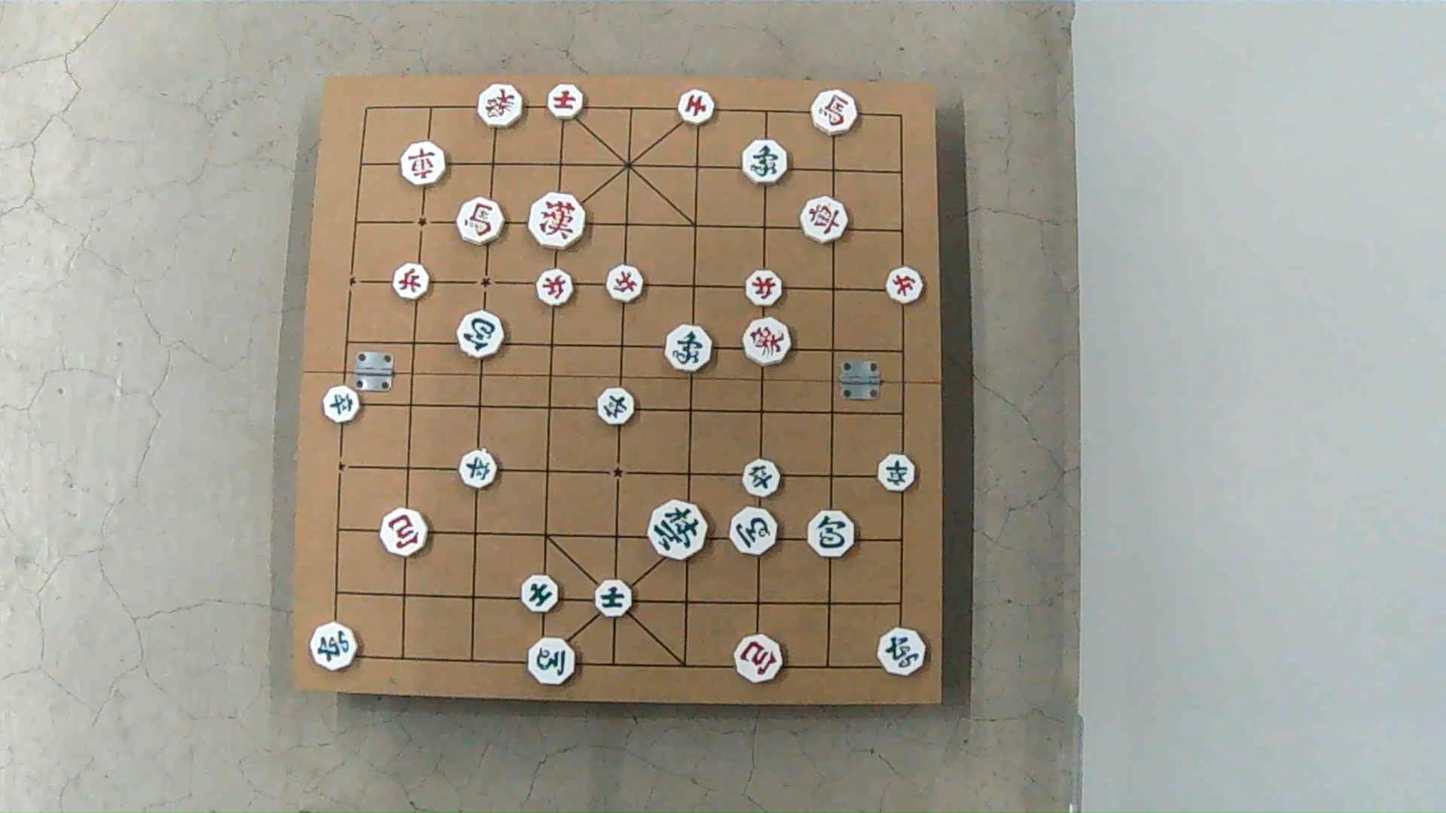cha_green: (309, 622, 357, 670), (877, 629, 924, 677)
cha_red: (799, 196, 848, 242), (399, 142, 446, 184)
jol_green: (461, 449, 498, 489), (597, 386, 634, 424), (744, 458, 781, 496), (878, 454, 916, 491), (322, 388, 360, 425)
jol_red: (537, 270, 574, 308), (886, 267, 923, 304), (609, 264, 646, 301), (746, 271, 784, 307), (392, 264, 429, 300)
ma_green: (529, 640, 576, 687), (730, 507, 776, 555)
ma_red: (458, 199, 504, 246), (810, 89, 855, 134)
po_green: (807, 509, 855, 557), (456, 311, 503, 358)
po_red: (737, 635, 786, 684), (380, 509, 428, 557)
sa_green: (521, 576, 559, 613), (597, 580, 634, 617)
sa_red: (549, 85, 585, 120), (681, 90, 716, 124)
sang_green: (664, 324, 712, 371), (741, 139, 788, 183)
sang_red: (743, 316, 791, 364), (478, 84, 522, 128)
wang_green: (650, 500, 708, 560)
wang_red: (531, 193, 587, 248)
